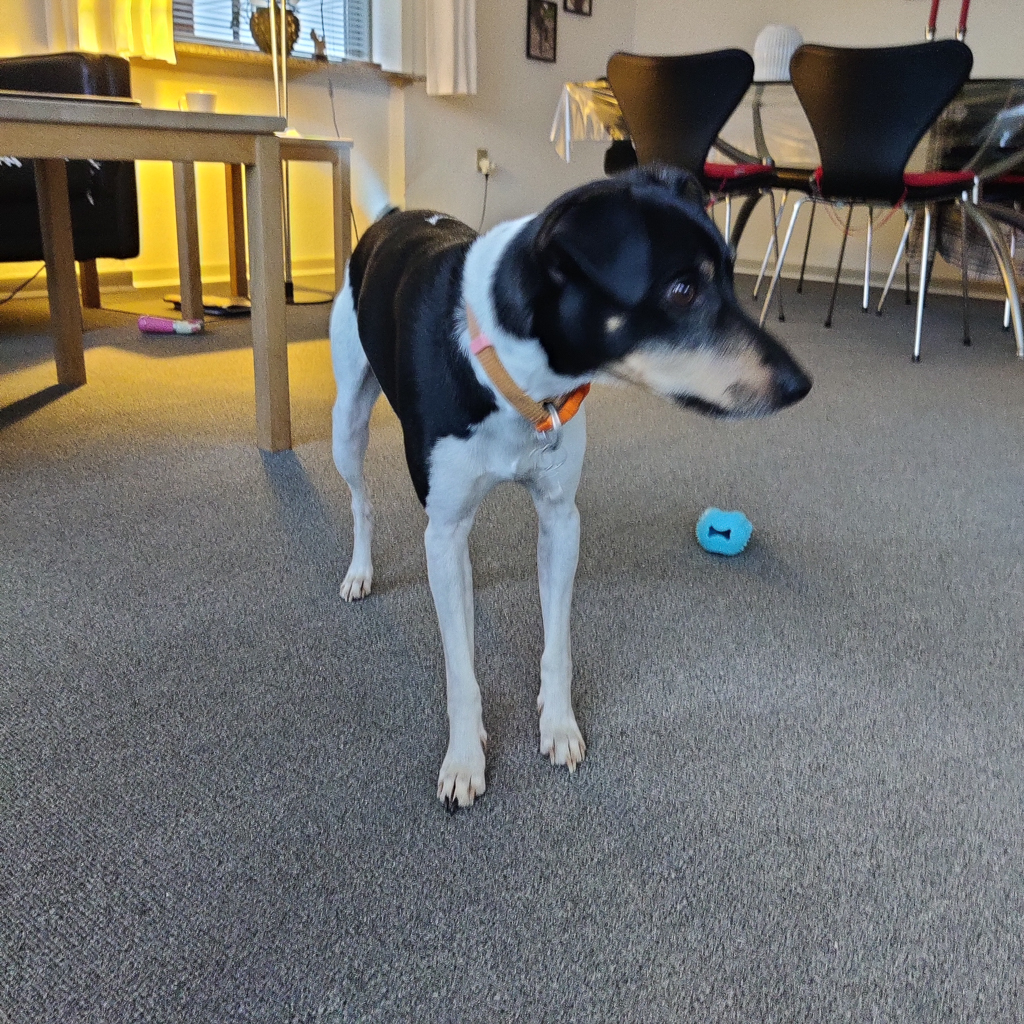Dog: (267, 107, 835, 852)
